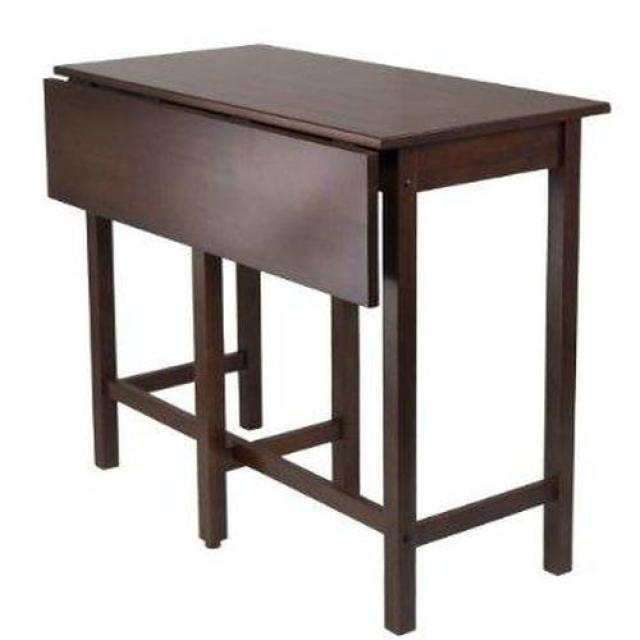table: (44, 45, 611, 637)
